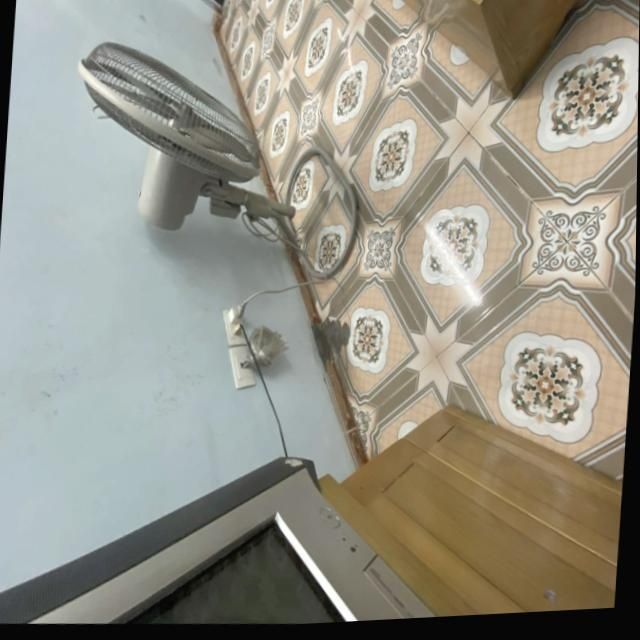outlet: (226, 344, 258, 391), (220, 306, 250, 346)
